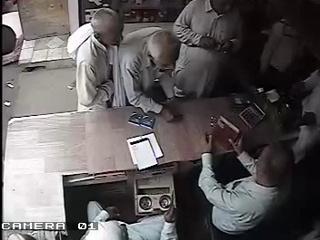Normal: (198, 109, 298, 240), (172, 0, 246, 100), (117, 27, 181, 122), (80, 195, 178, 240)
shoplifting: (66, 8, 125, 112)
